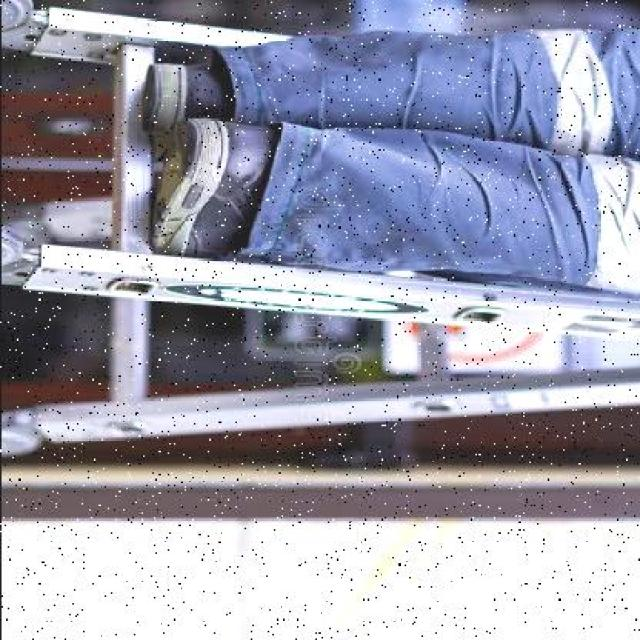shoes: (154, 126, 288, 260), (141, 67, 244, 145)
